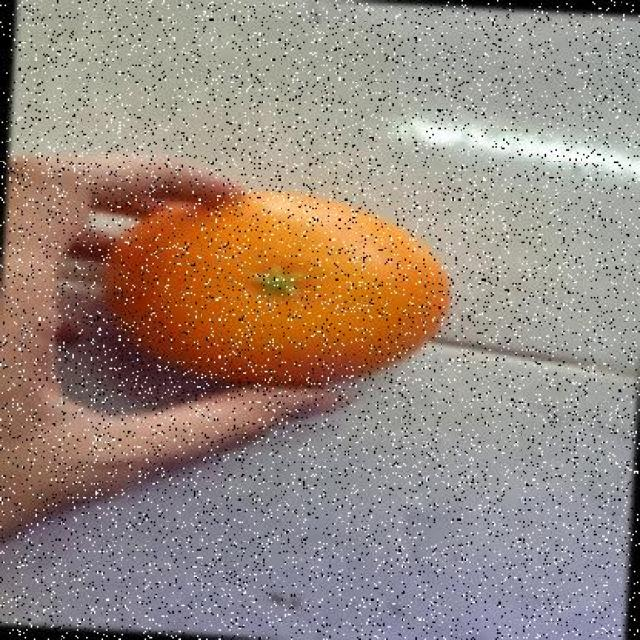Orange: (101, 186, 452, 386)
